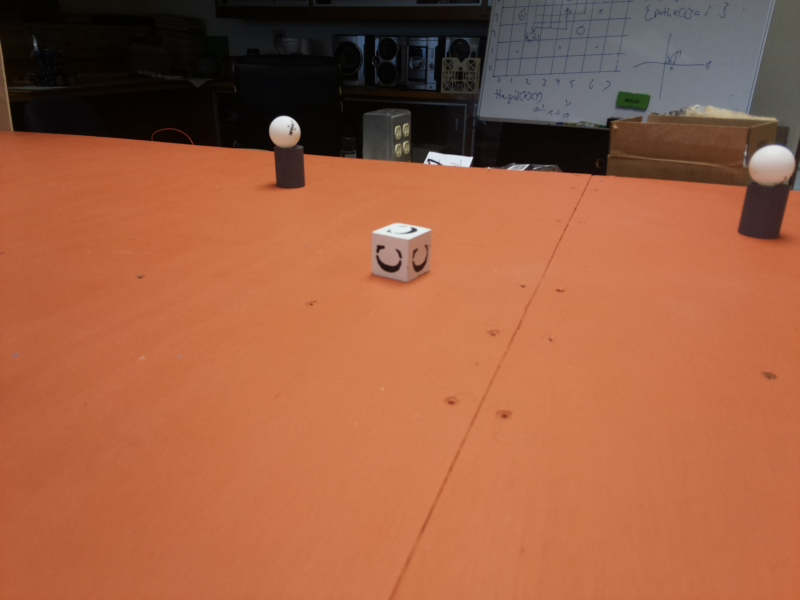blockC: (371, 219, 436, 288)
obstacle: (733, 143, 799, 250), (269, 106, 306, 195)
